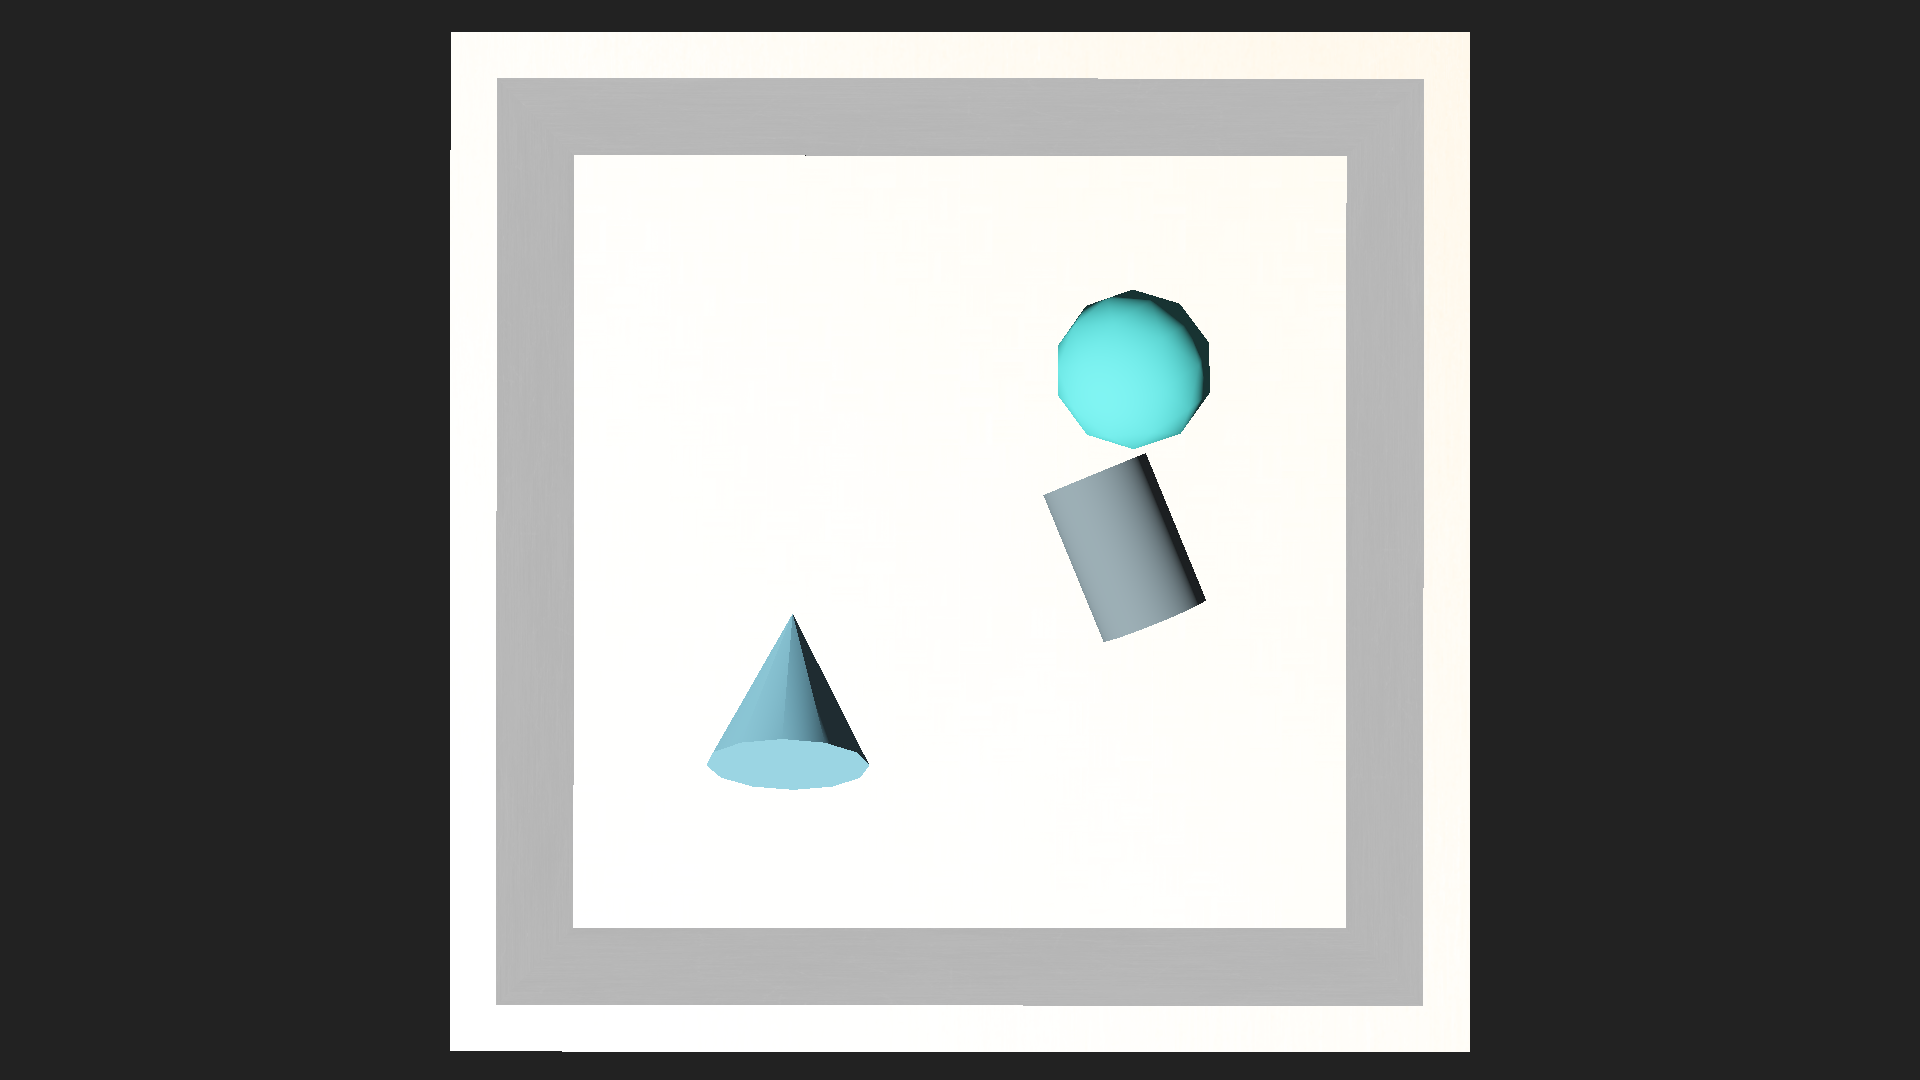cone: (1040, 451, 1212, 644)
cylinder: (705, 583, 866, 800)
sphere: (1052, 290, 1212, 448)
